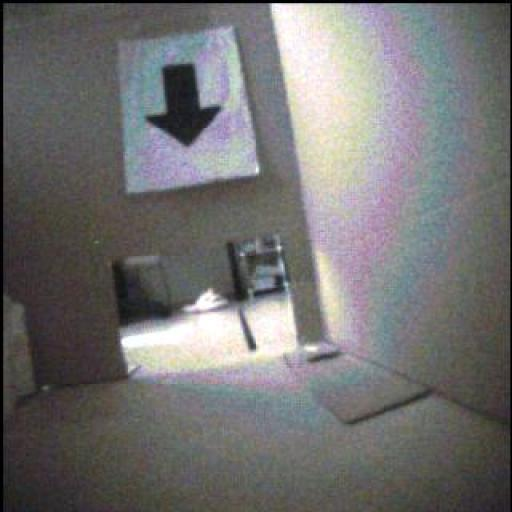arrow: (148, 65, 222, 147)
